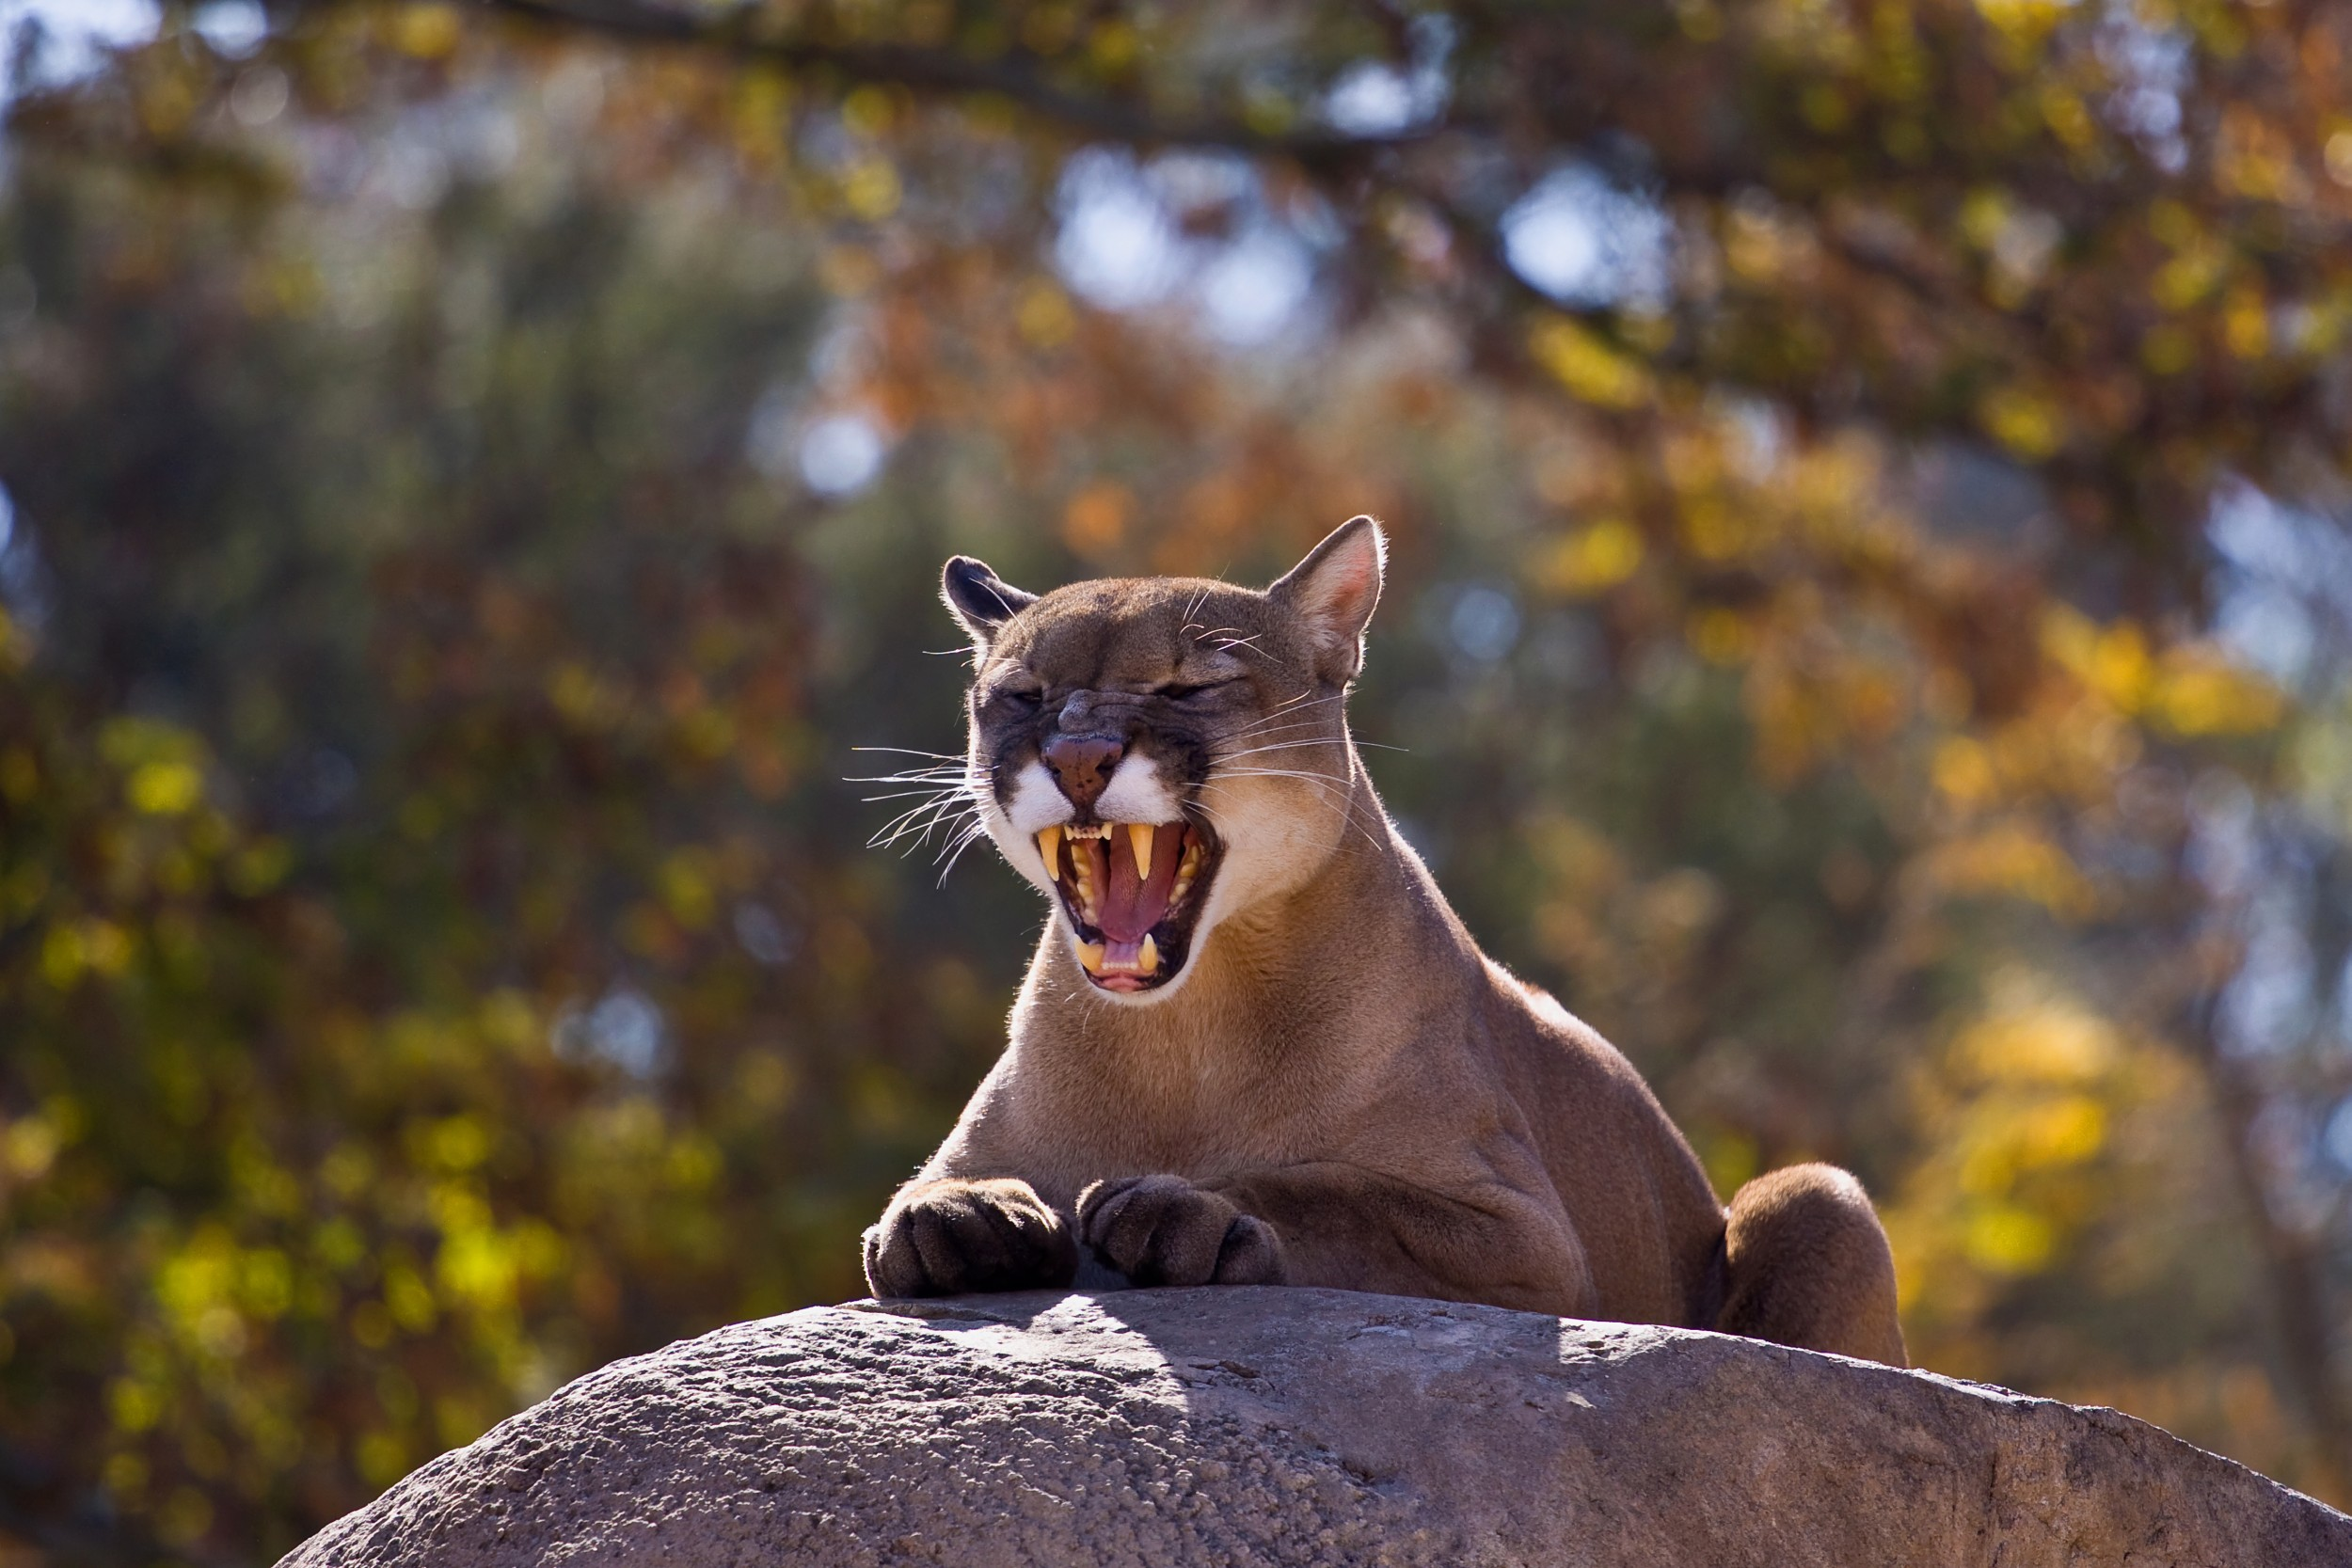OncaParda: (843, 504, 1932, 1377)
